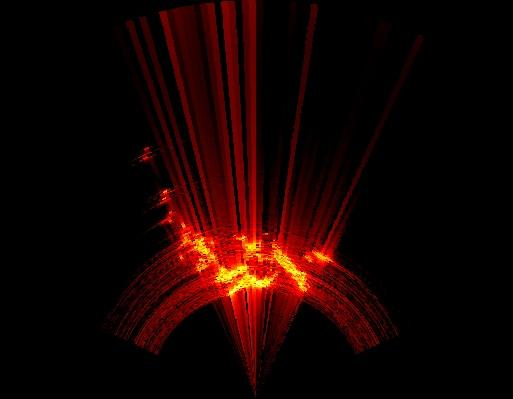shipwreck: (184, 236, 308, 294), (304, 251, 331, 262)
